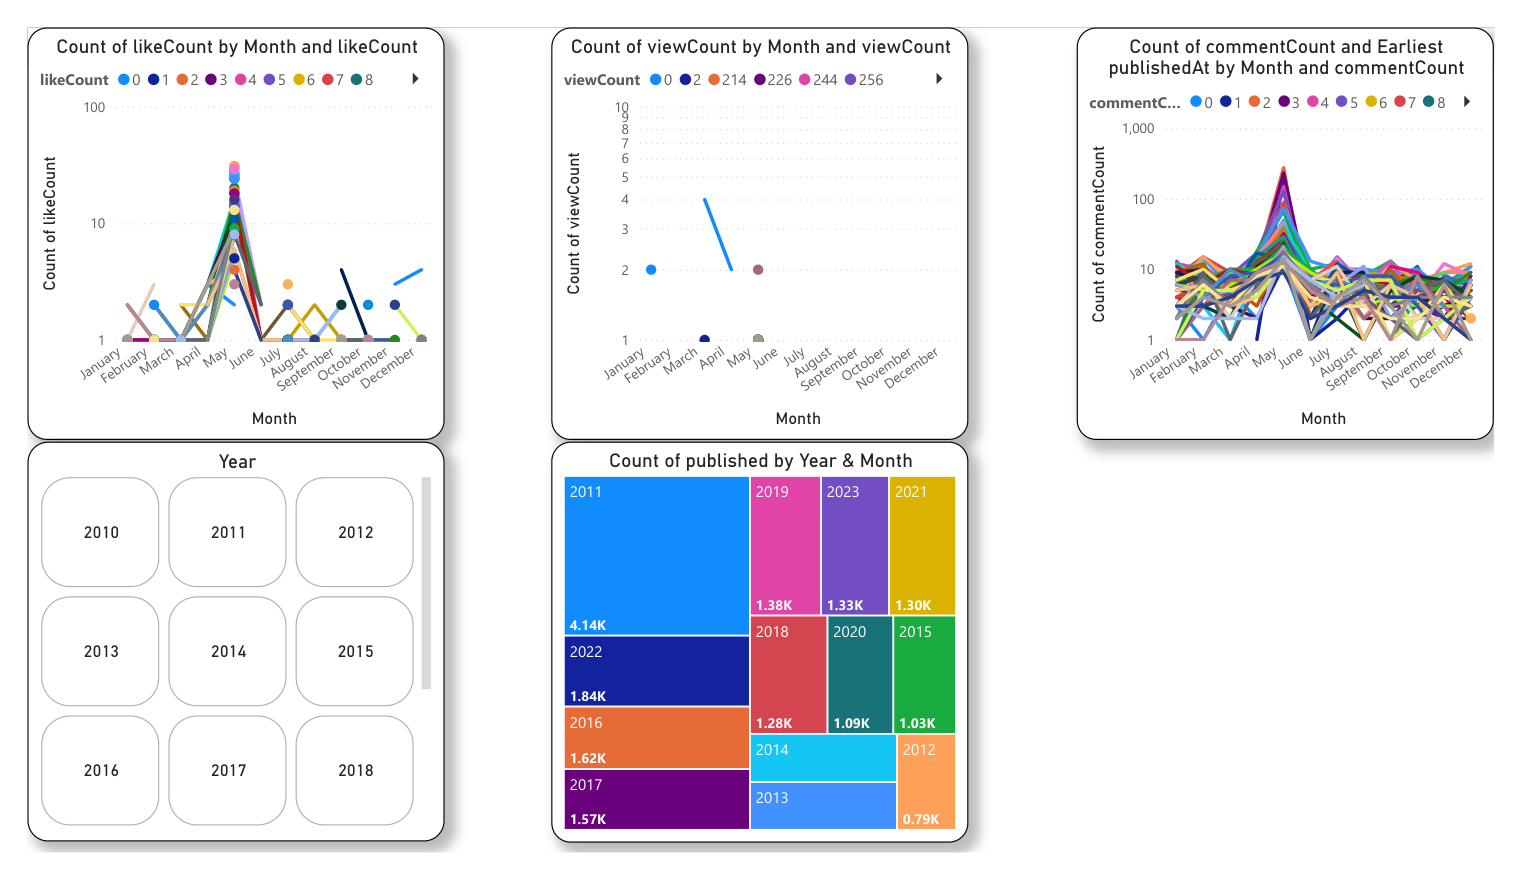

The page's visual inventory and layout, read from the dashboard file:
{"tool":"powerbi","page":{"name":"TTS","canvas":[1280,720],"ordinal":2},"visuals":[{"type":"lineChart","fields":{"Y":["CountNonNull(songs xlsx - Sheet1.viewCount)"],"Series":["songs xlsx - Sheet1.viewCount"],"Category":["songs xlsx - Sheet1.publishedAt.Variation.Date Hierarchy.Month"]},"box":[457.1,0,364.3,360],"z":0},{"type":"lineChart","fields":{"Series":["songs xlsx - Sheet1.commentCount"],"Y":["CountNonNull(songs xlsx - Sheet1.commentCount)"],"Category":["songs xlsx - Sheet1.publishedAt.Variation.Date Hierarchy.Month"]},"box":[915.7,0,364.3,360],"z":1000},{"type":"lineChart","fields":{"Category":["songs xlsx - Sheet1.publishedAt.Variation.Date Hierarchy.Month"],"Y":["CountNonNull(songs xlsx - Sheet1.likeCount)"],"Series":["songs xlsx - Sheet1.likeCount"]},"box":[0,0,364.3,360],"z":2000},{"type":"advancedSlicerVisual","fields":{"Values":["songs xlsx - Sheet1.publishedAt.Variation.Date Hierarchy.Year"]},"box":[0,361.4,364.3,348.6],"z":3000},{"type":"treemap","title":"Count of published by Year & Month","fields":{"Group":["songs xlsx - Sheet1.publishedAt.Variation.Date Hierarchy.Year","songs xlsx - Sheet1.publishedAt.Variation.Date Hierarchy.Month"],"Values":["CountNonNull(songs xlsx - Sheet1.publishedAt)"]},"box":[457.1,361.4,364.3,350],"z":4000}]}

Visuals, with their boxes in screenshot pixels (x1, y1, x2, y2), scaled from the page's 1280x720 canvas onto the 1522x880 screenshot:
lineChart - CountNonNull(songs xlsx - Sheet1.viewCount) x songs xlsx - Sheet1.viewCount: region(544, 0, 977, 440)
lineChart - songs xlsx - Sheet1.commentCount x CountNonNull(songs xlsx - Sheet1.commentCount): region(1089, 0, 1521, 440)
lineChart - songs xlsx - Sheet1.publishedAt.Variation.Date Hierarchy.Month x CountNonNull(songs xlsx - Sheet1.likeCount): region(0, 0, 433, 440)
advancedSlicerVisual - songs xlsx - Sheet1.publishedAt.Variation.Date Hierarchy.Year: region(0, 442, 433, 868)
"Count of published by Year & Month" treemap: region(544, 442, 977, 869)
